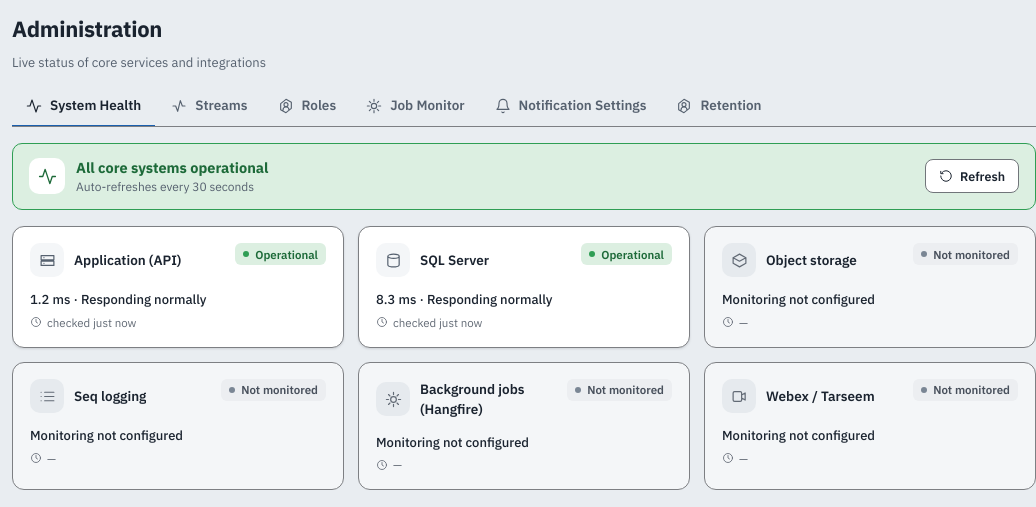
Test: AdministrationPage — sub-tab container › switches to Job Monitor and renders the live Hangfire stat tiles
Click the tab "Job Monitor" at (415, 106), box [352,86,478,126]
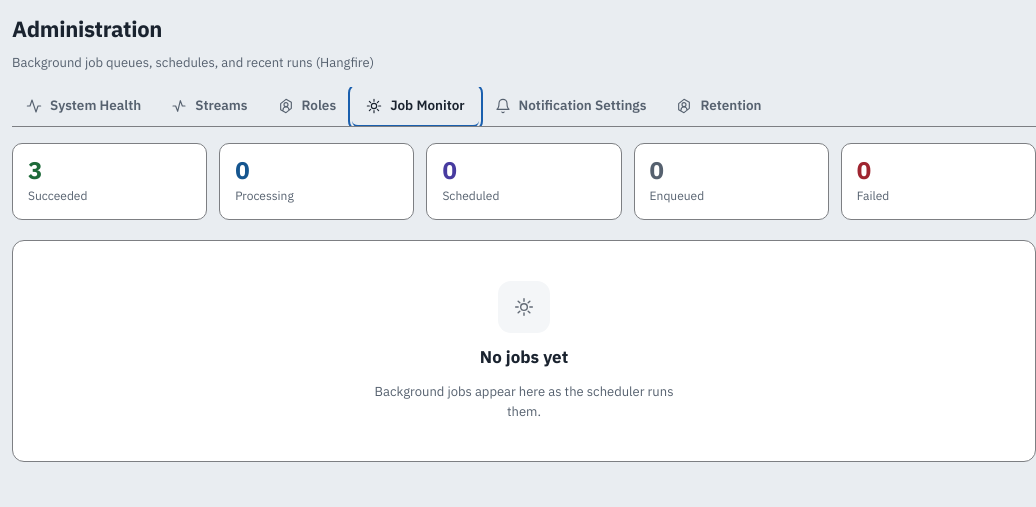
Expected: the text "3" is shown, [28,154,42,186]
Expected: the text "No jobs yet" is shown, [480,344,568,370]
